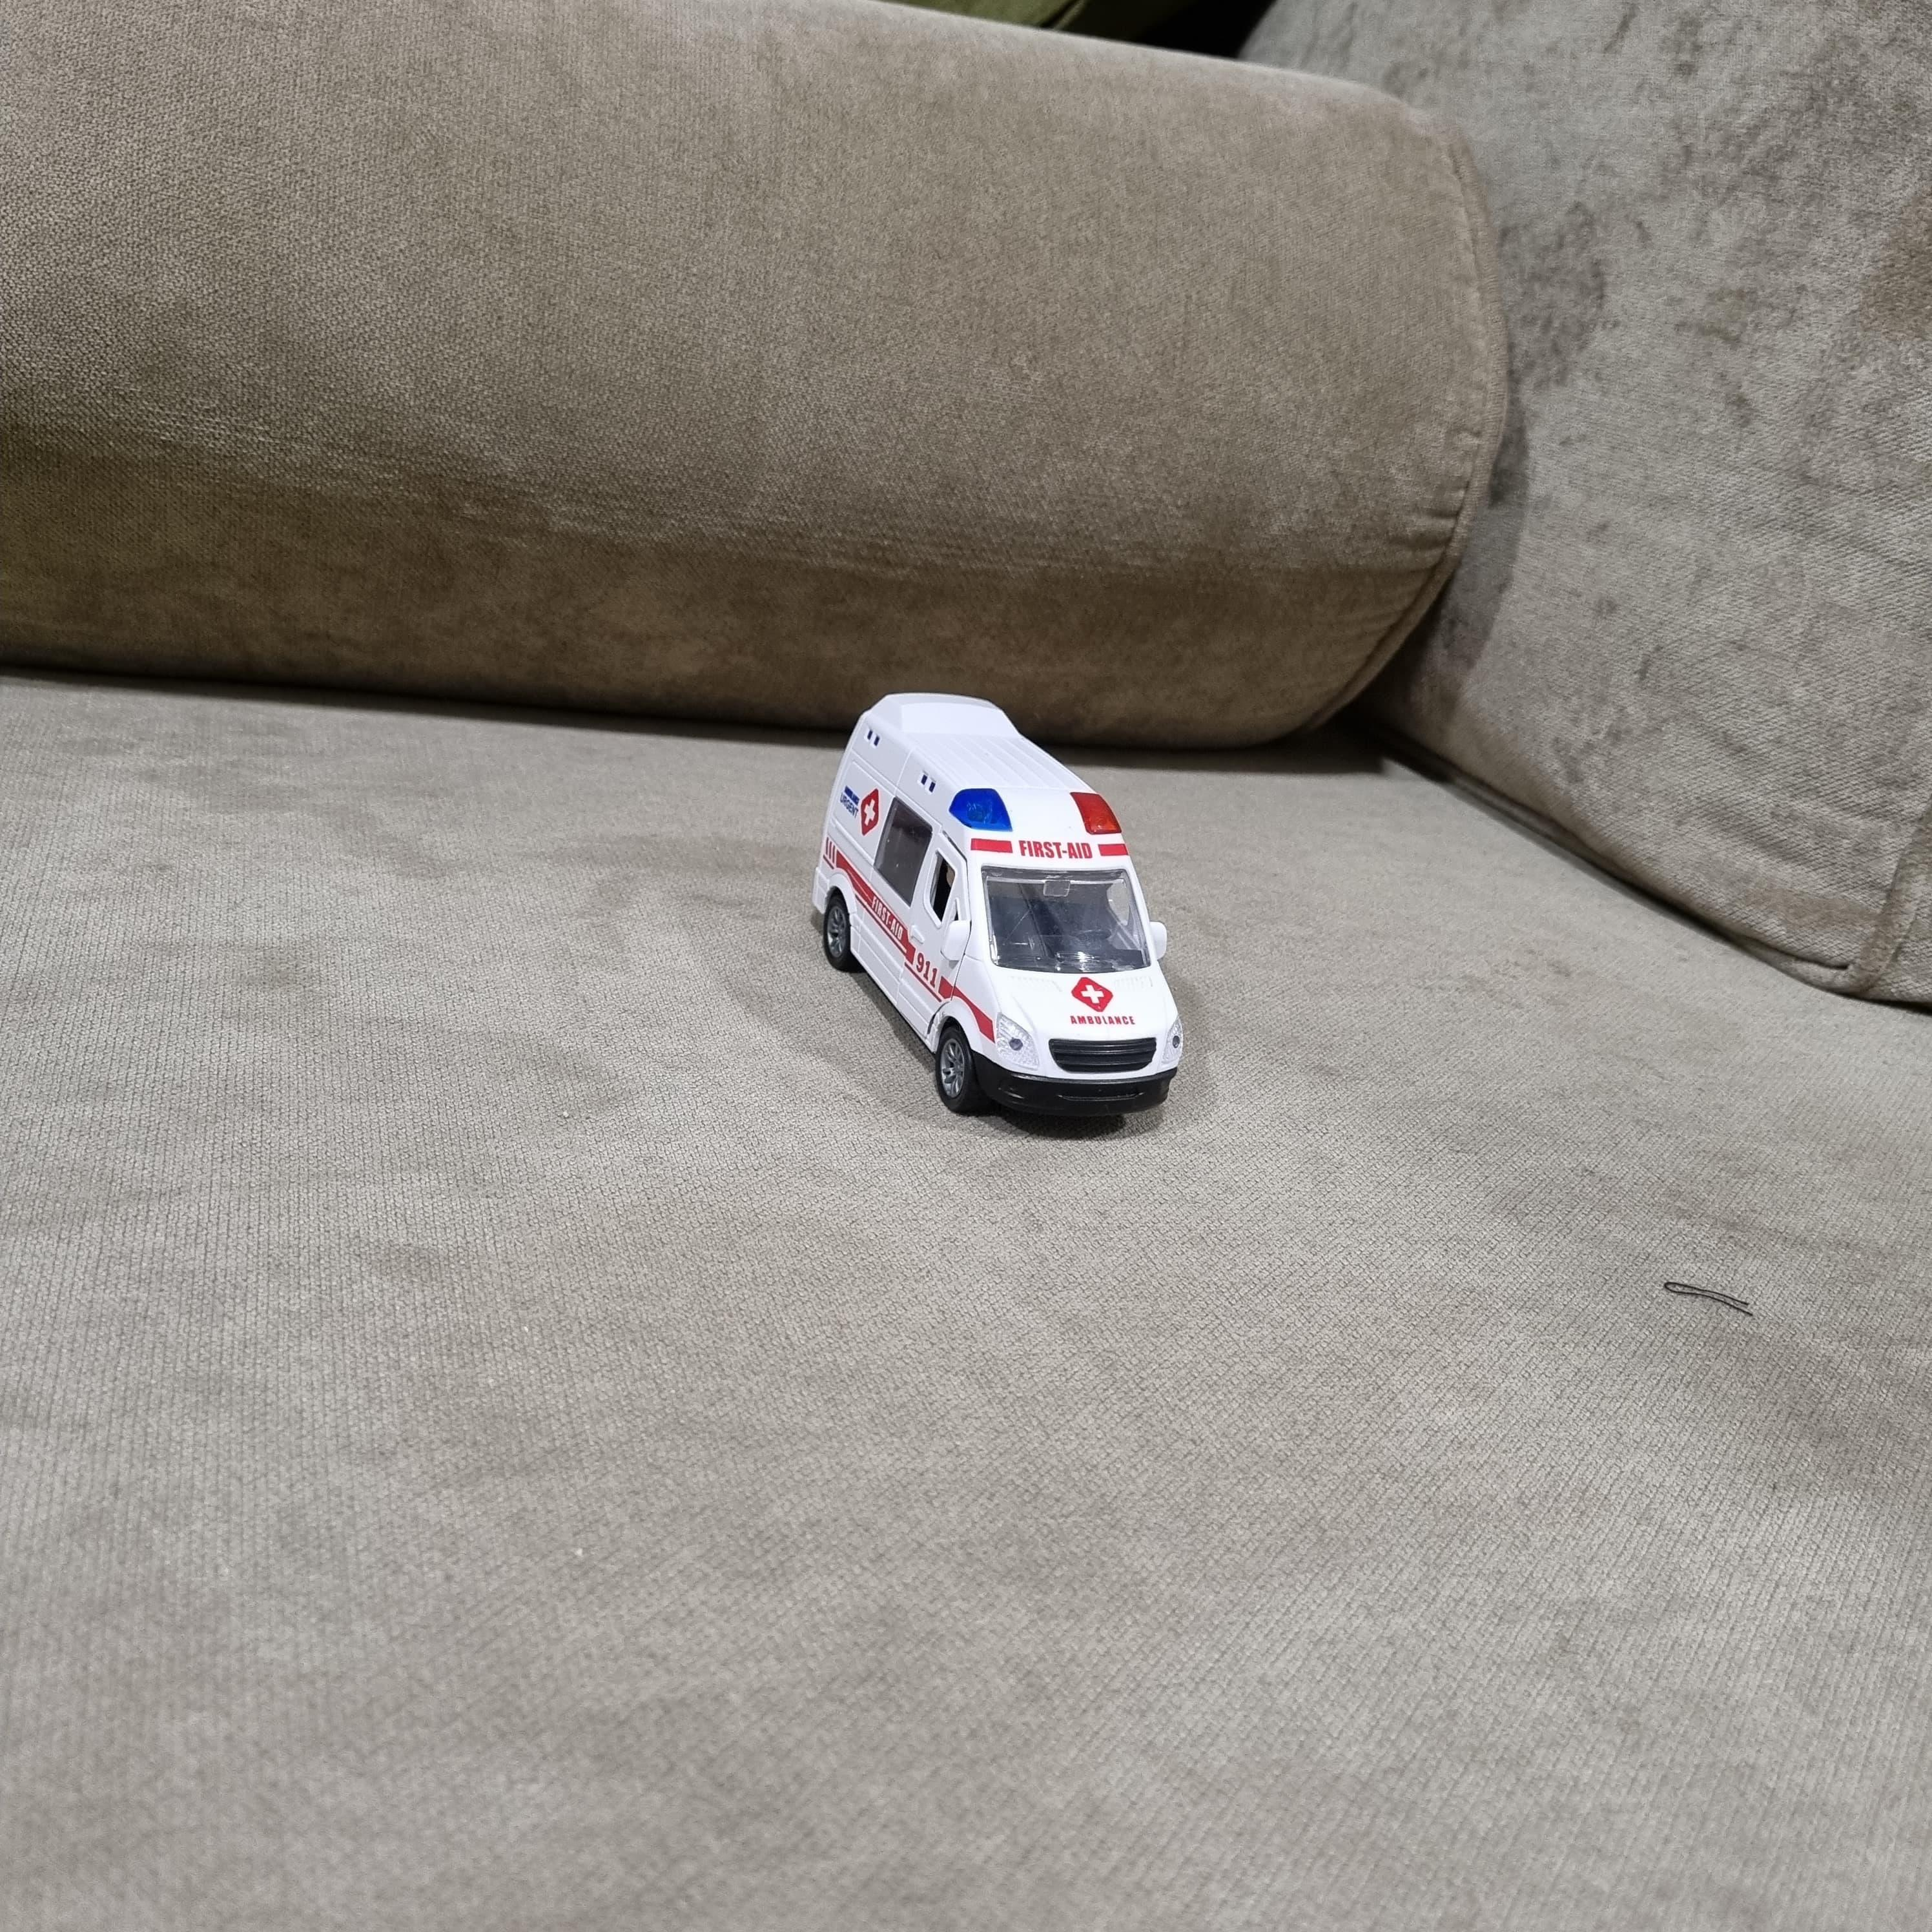ambulance_off: (814, 692, 1185, 1132)
